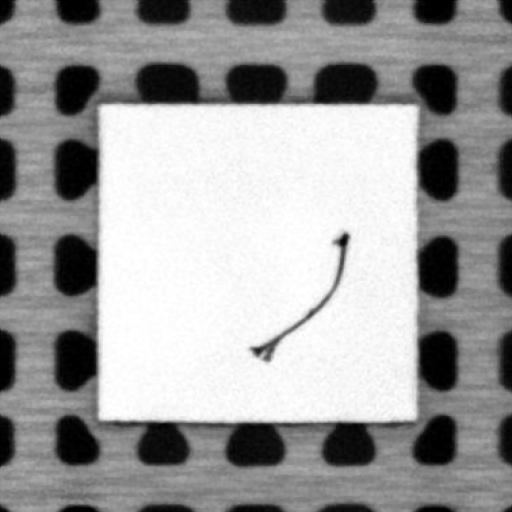DIE_INK: (248, 231, 349, 362)
